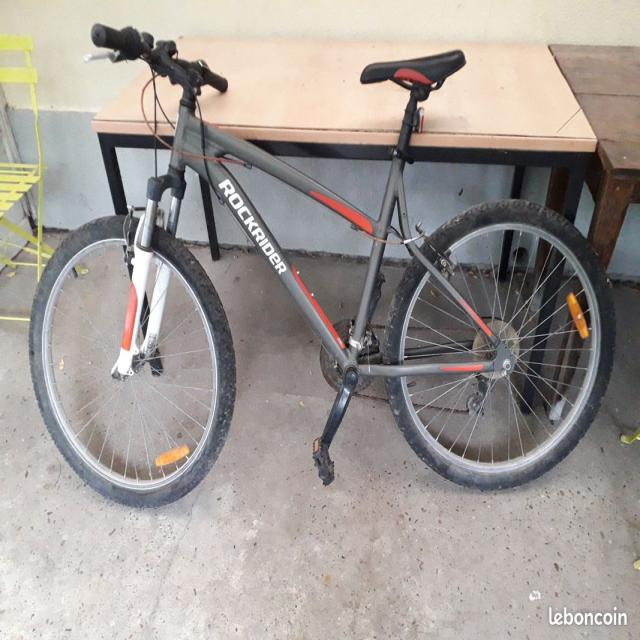Bike: (30, 24, 614, 506)
